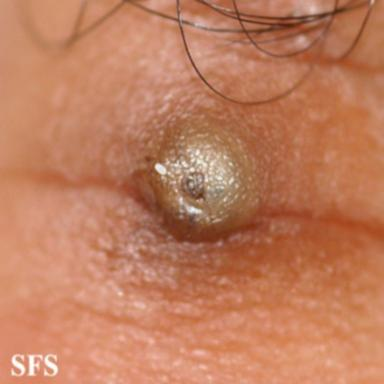Tungiasis: (137, 123, 263, 237)
